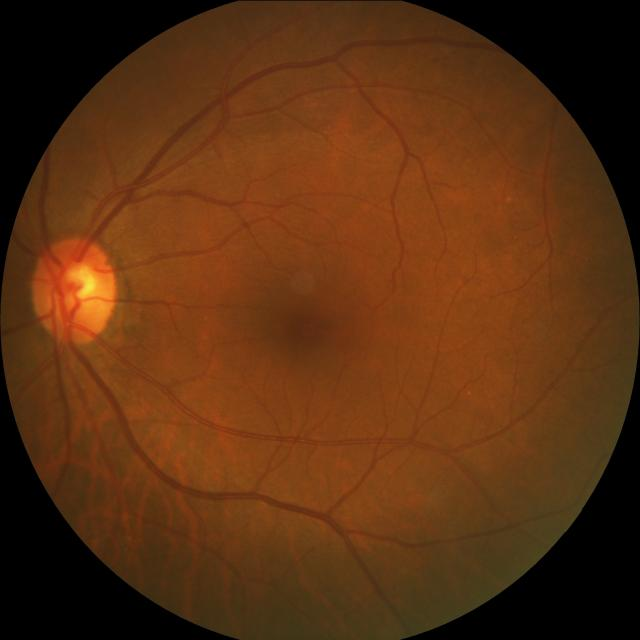OC: (54, 262, 97, 304)
OD: (30, 234, 116, 343)
